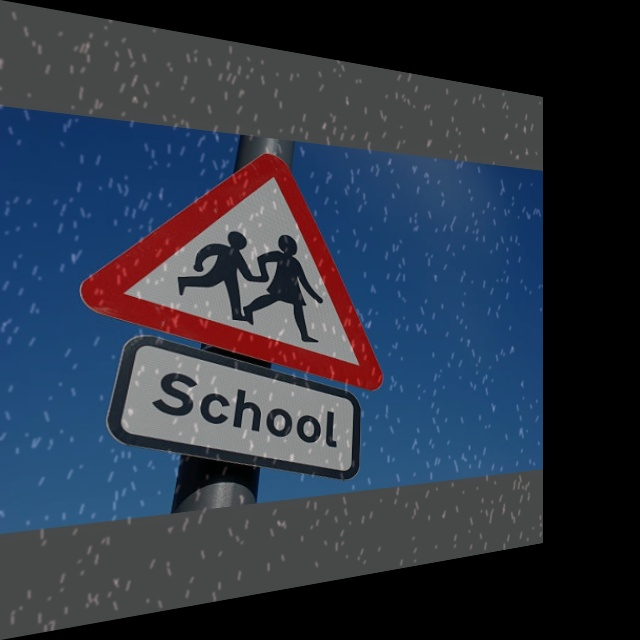School_Ahead: (87, 123, 395, 392)
